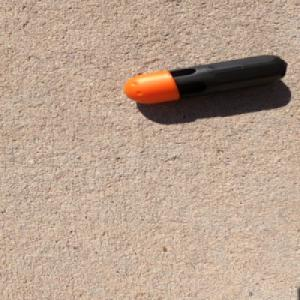PlasticPart: (120, 54, 283, 105)
